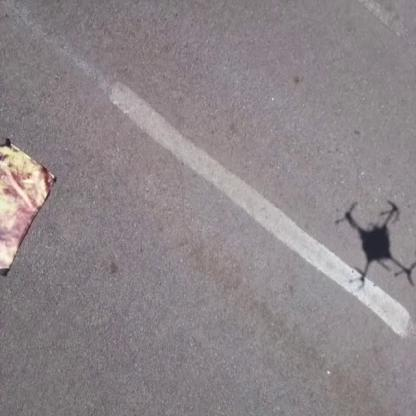fire-poster: (0, 136, 57, 278)
